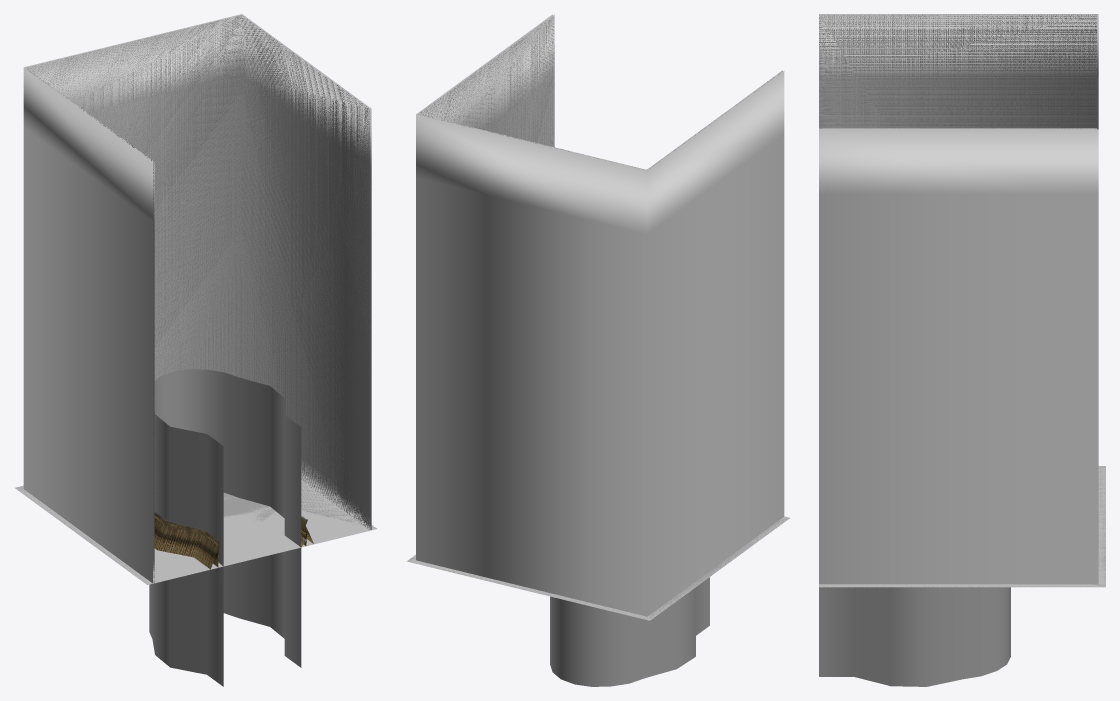
Rendered from warp2.fbx.
The picture shows the model from 3 angles, left to right: view 1: azimuth 30°, elevation 25°; view 2: azimuth 150°, elevation 25°; view 3: azimuth 270°, elevation 25°; orthographic projection. The views are drawn at different scales.
Parts seen in each view (by area): view 1: mdl_LOD0, col_o, col_w, mdl2_LOD; view 2: mdl_LOD0, mdl2_LOD, col_w, col_o; view 3: mdl_LOD0, mdl2_LOD, col_o, col_w.
Part boxes in pixels (box(x1,y1,x2,y2)): mdl_LOD0: box(15, 75, 376, 584); col_o: box(15, 15, 376, 584); col_w: box(149, 369, 301, 686); mdl2_LOD: box(23, 14, 371, 564); mdl_LOD0: box(406, 78, 789, 620); mdl2_LOD: box(416, 14, 784, 234); col_w: box(550, 577, 709, 686); col_o: box(408, 16, 789, 620); mdl_LOD0: box(819, 79, 1105, 587); mdl2_LOD: box(819, 14, 1098, 194); col_o: box(819, 14, 1105, 587); col_w: box(819, 587, 1010, 686).
Size of what is drawn, in the model's own units: 1600 by 3600 by 1600.
